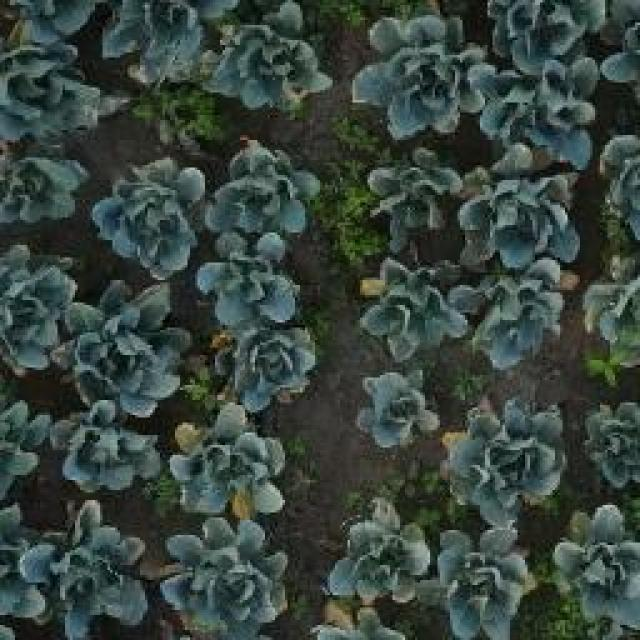cabbage: (168, 402, 280, 520), (377, 31, 488, 124), (468, 160, 570, 260), (226, 9, 331, 102), (67, 301, 175, 390), (178, 534, 279, 627), (45, 527, 148, 616), (498, 70, 601, 157), (458, 412, 556, 502), (436, 535, 529, 629), (468, 265, 562, 355), (0, 35, 88, 130), (101, 164, 200, 248), (366, 267, 457, 350), (214, 149, 308, 228), (60, 414, 152, 491), (342, 514, 423, 601), (211, 241, 294, 325), (367, 162, 455, 236), (568, 522, 640, 606), (223, 328, 308, 397), (362, 379, 434, 442), (590, 413, 640, 475)
